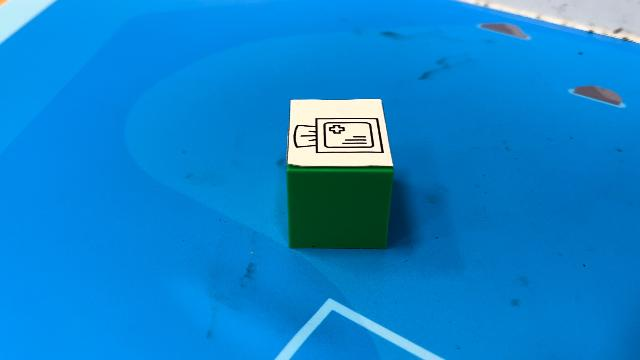napkin: (289, 98, 395, 253)
